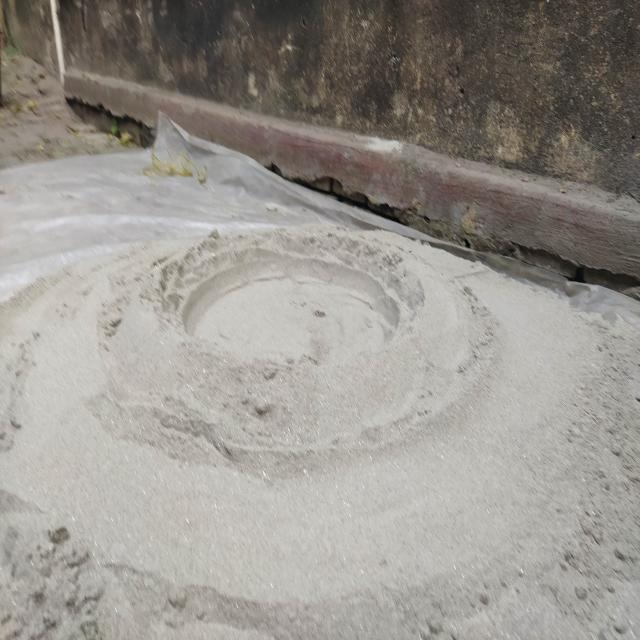C40: (182, 241, 406, 362)
